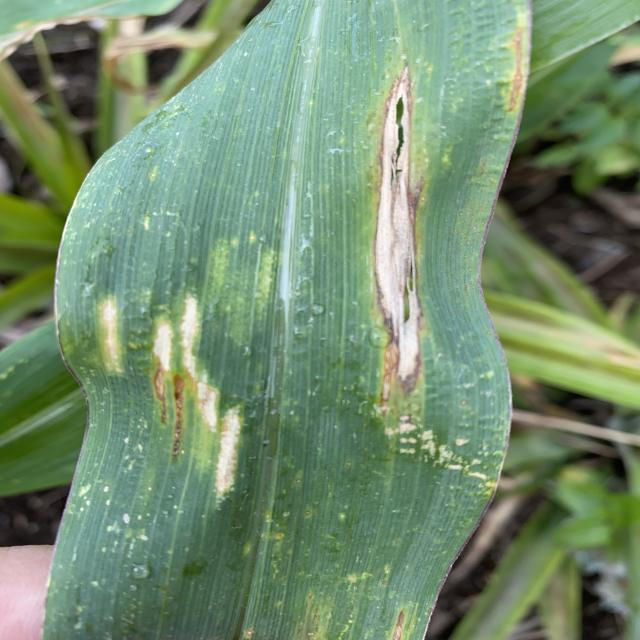Corn_Leaf_Blight: (44, 0, 535, 640)
